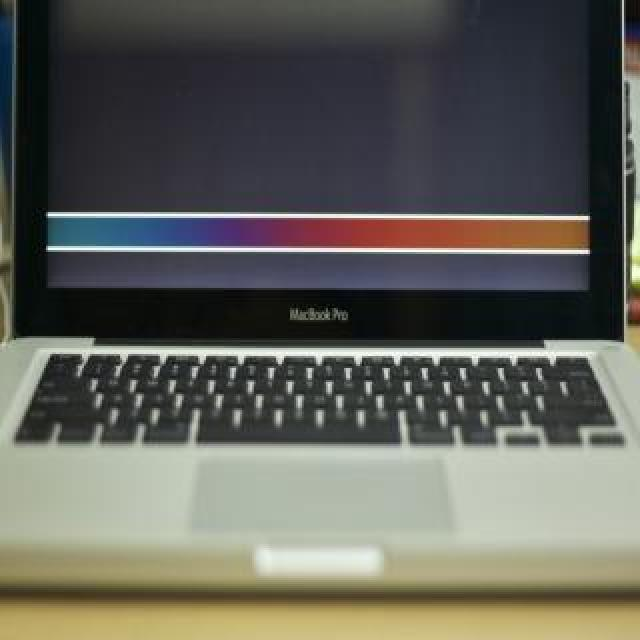laptop_computer: (4, 0, 640, 610)
